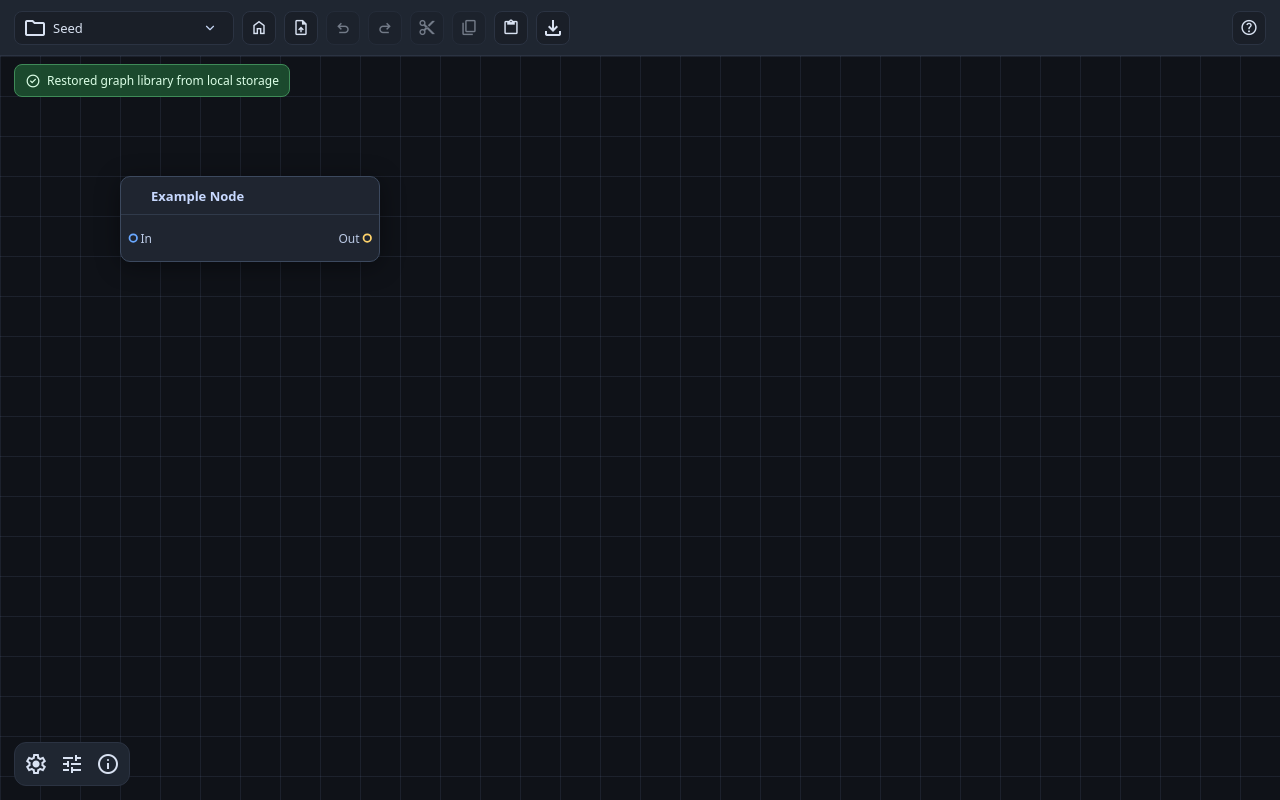
Test: Node picker › opens picker when releasing pin-drag on canvas and connects after selection
Press the mouse on the button named "Out (Any Out)" at (367, 238), box [360,232,373,244]
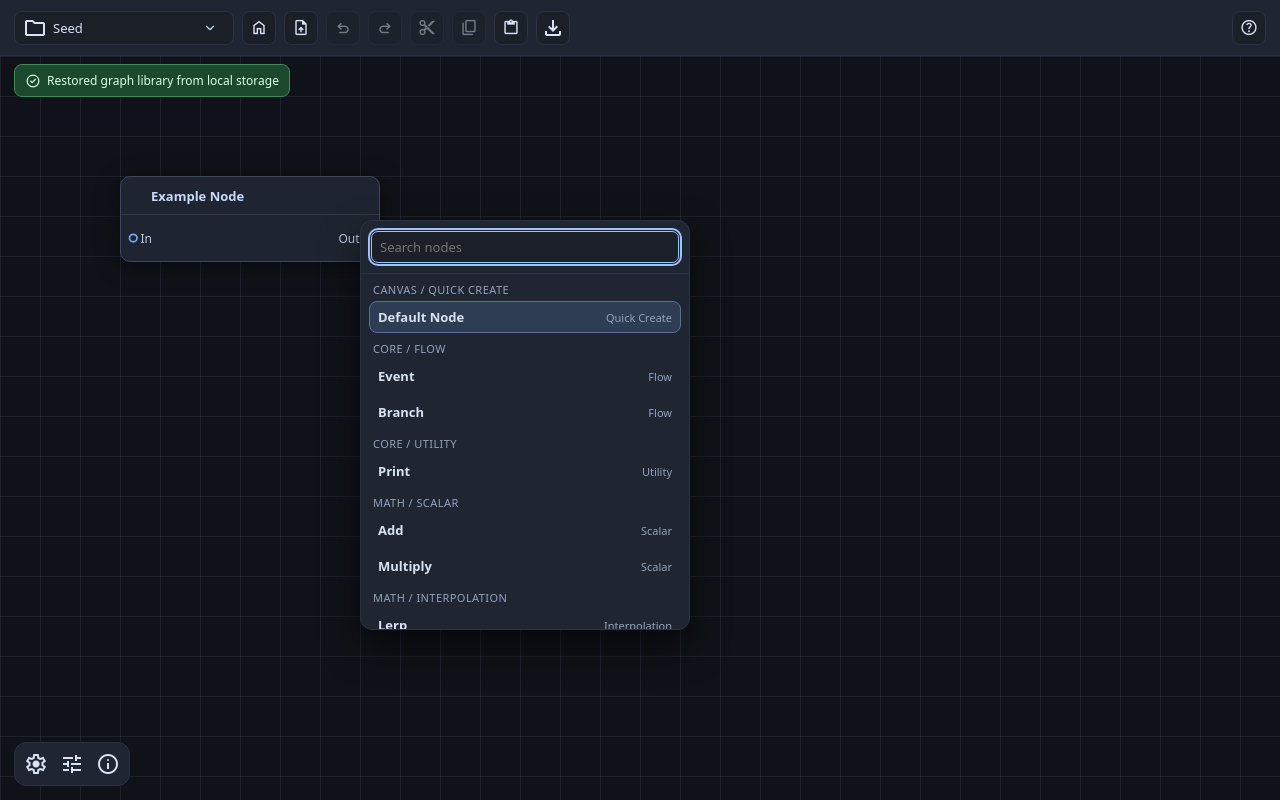
Check: the dialog with class "node-picker" is shown, box [360,220,690,630]
Type "print" into the field labelled "Search nodes".
click(525, 247); type("print")  # box [371,231,679,263]
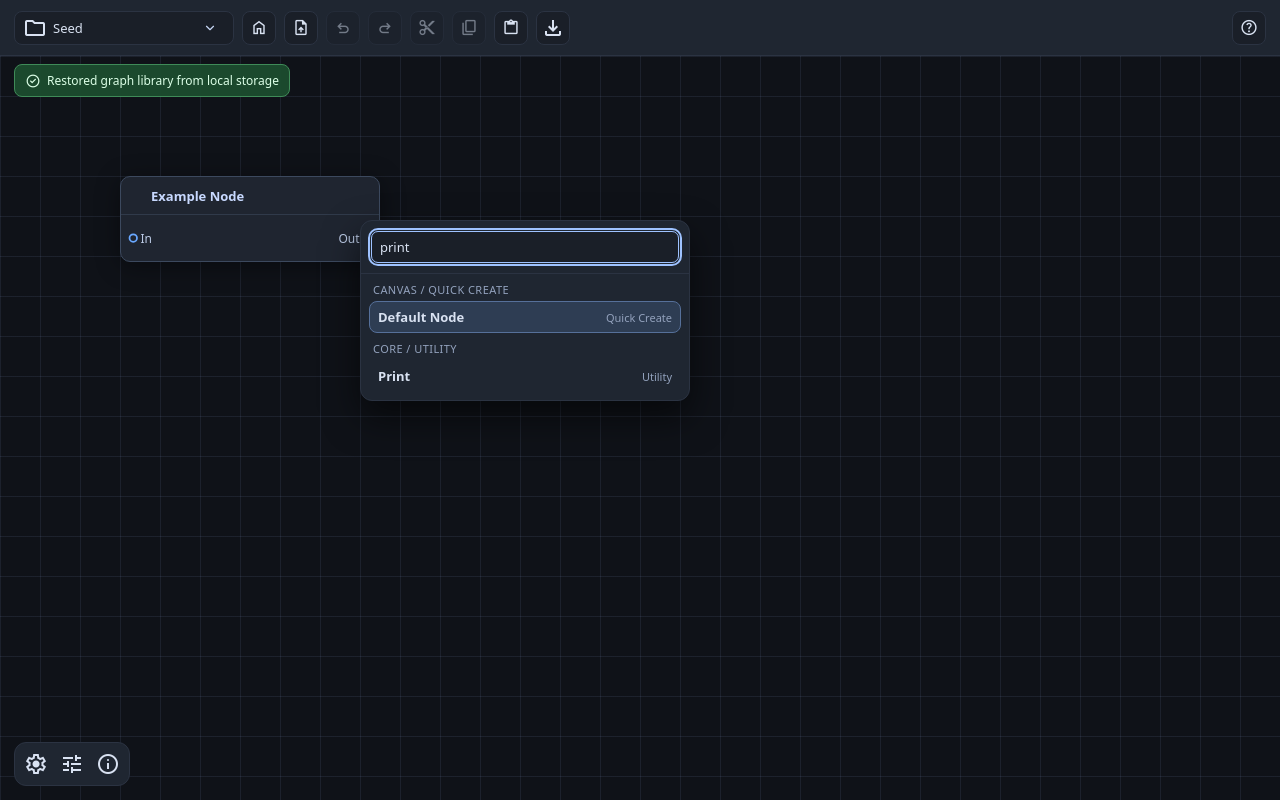
Click the option "Print Utility".
click(394, 376)  # box [369,360,681,392]
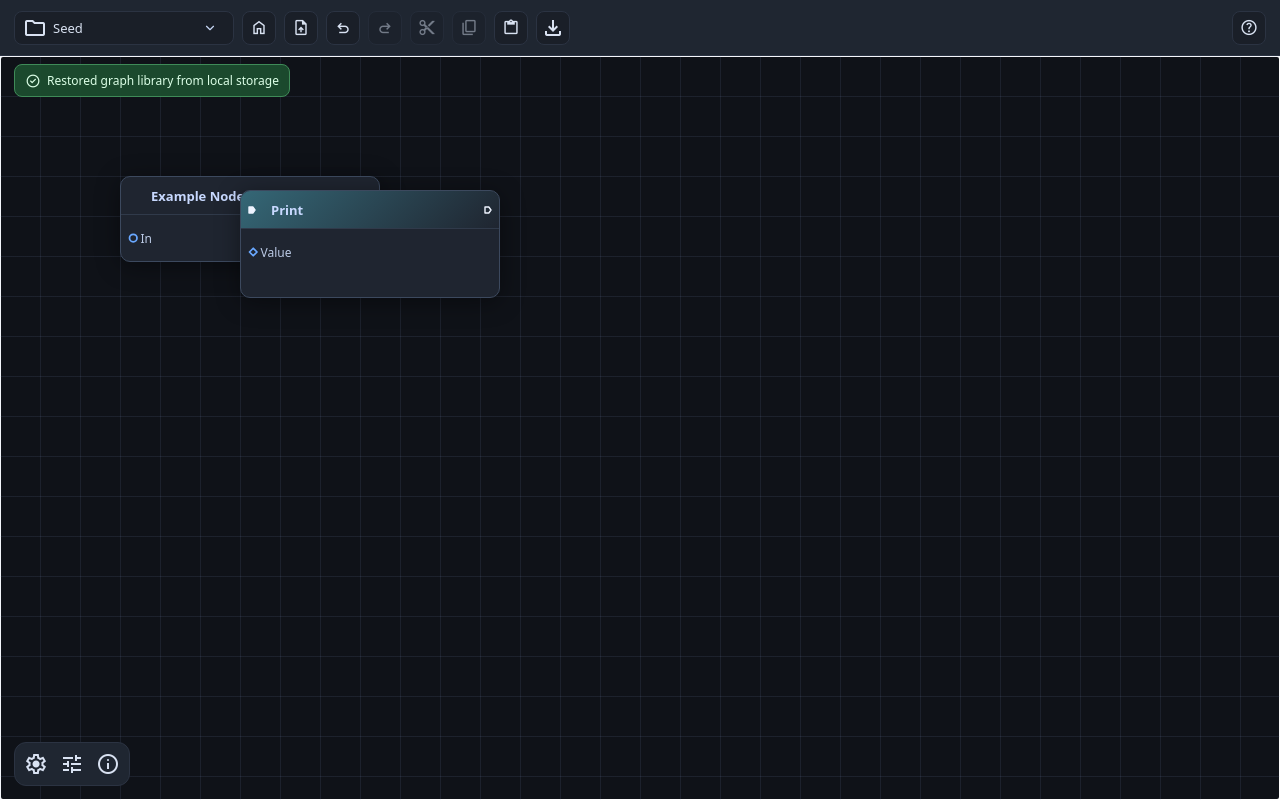
Check: the dialog with class "node-picker" is gone
